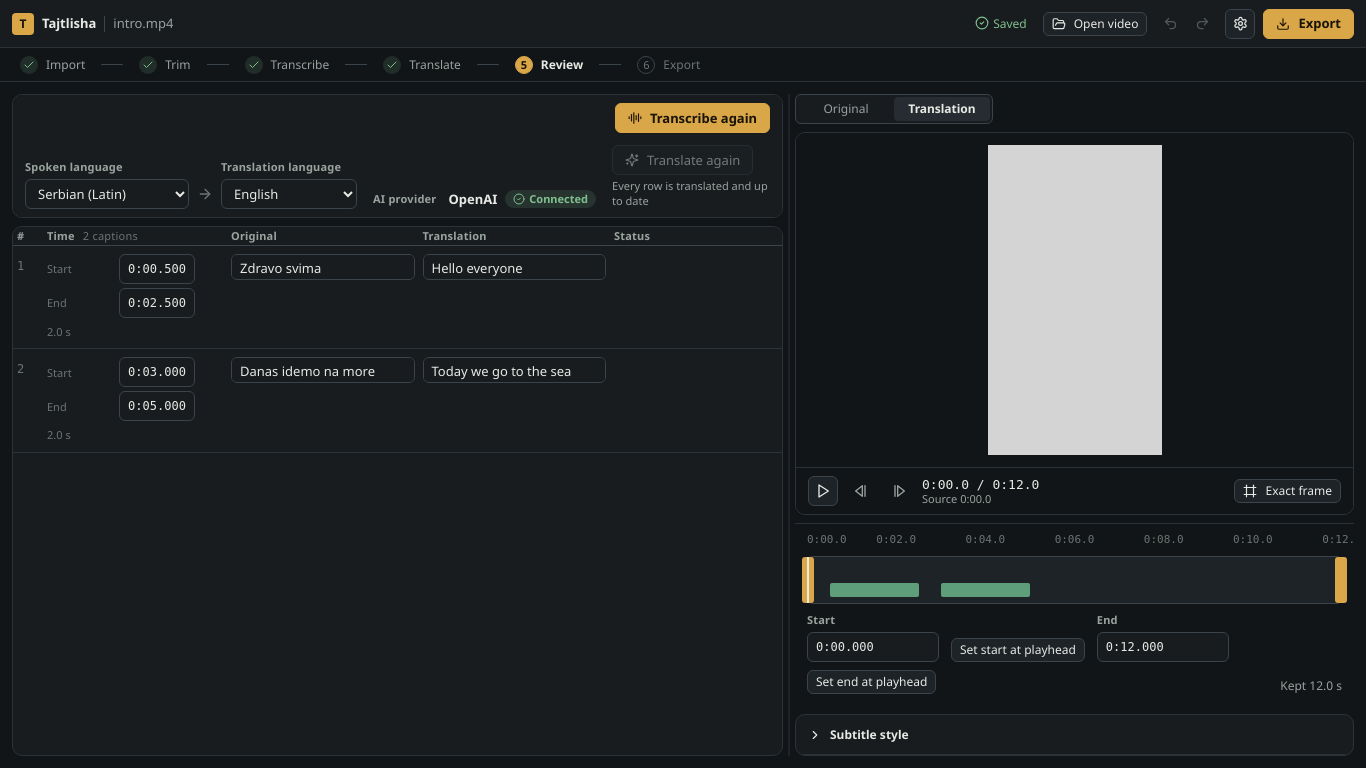
it: App shell › keeps the project mounted while Settings is open
Expected: the 1st text box showing "Zdravo svima" is shown, 231,254 -> 414,280
Click the button named "Settings". click: (1240, 24)
box: 1225,8 -> 1255,38
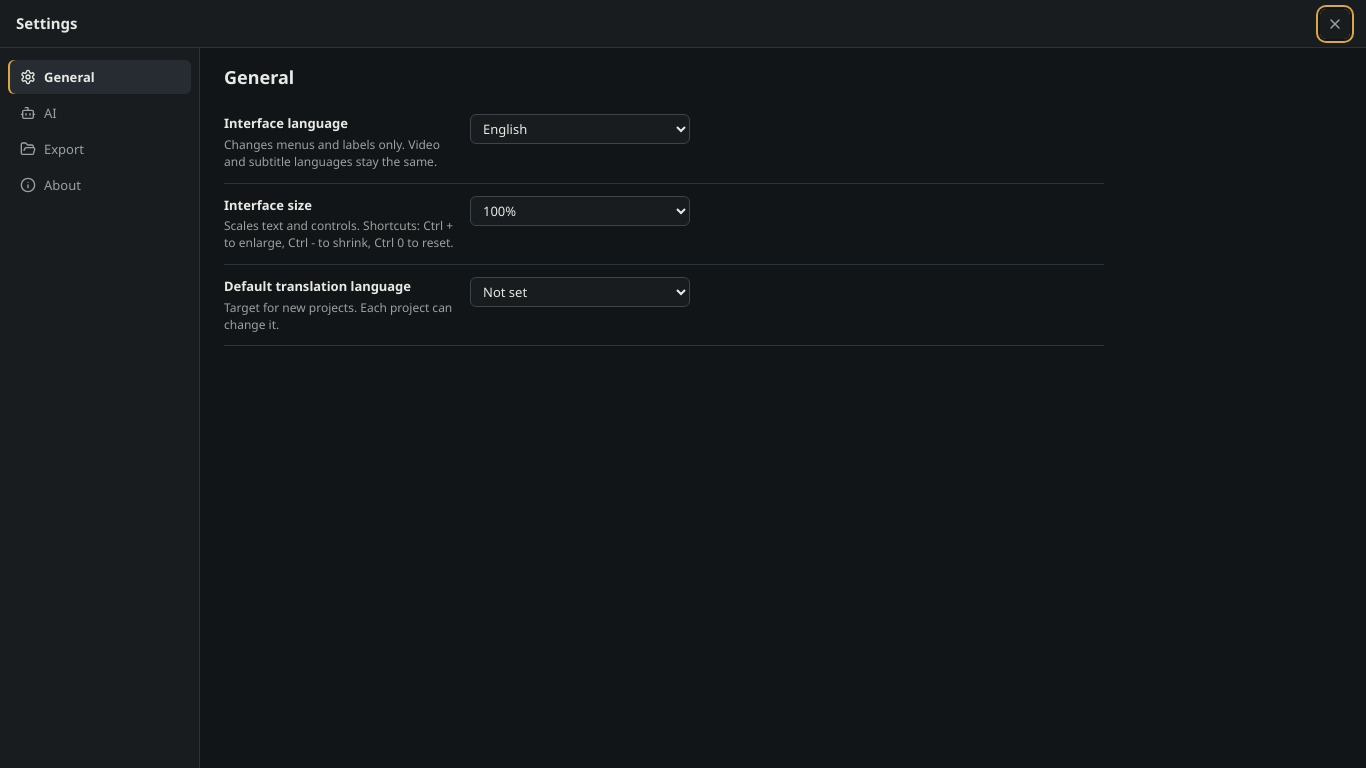
Expected: the dialog "Settings" is shown
Click the button named "Close settings". click: (1335, 24)
box: 1320,8 -> 1350,38
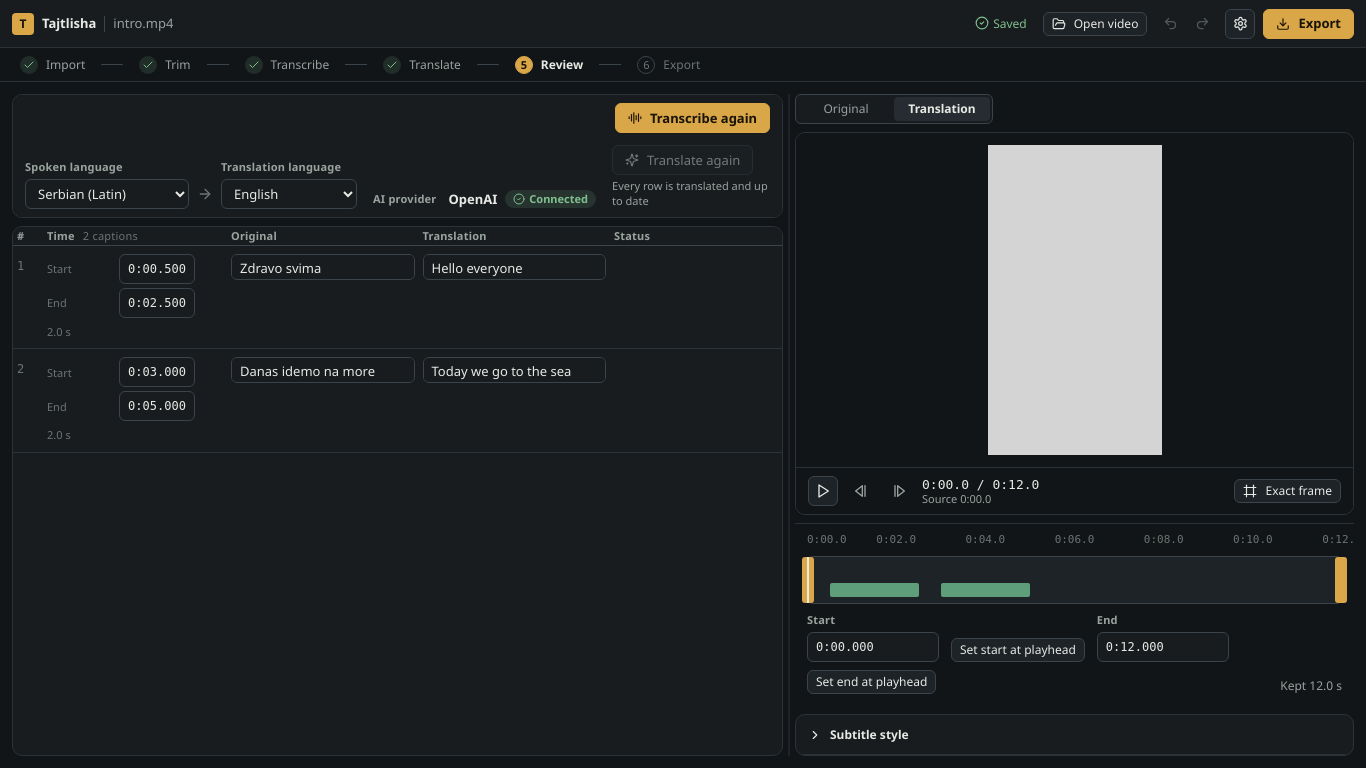
Expected: the 1st text box showing "Zdravo svima" is shown, 231,254 -> 414,280
Expected: the heading "Settings" is gone
